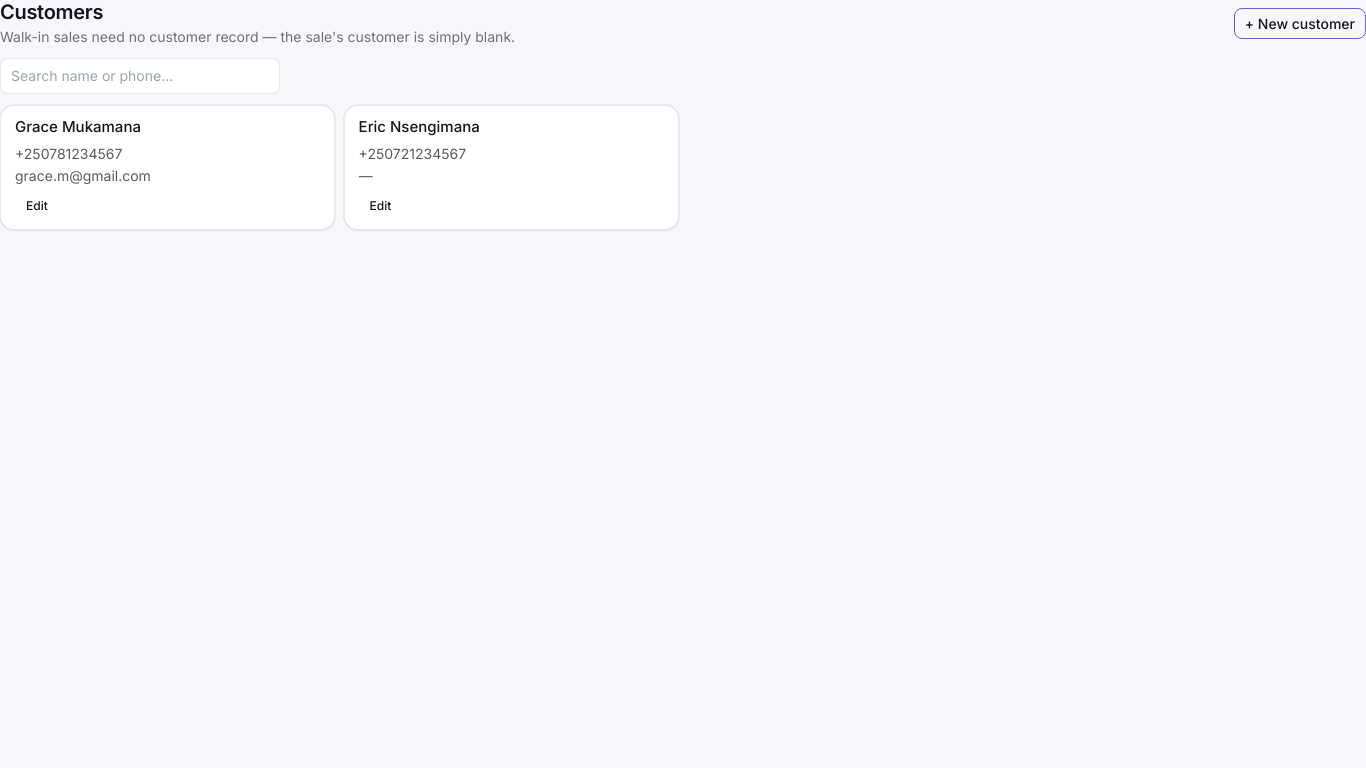
Test: CustomersPageClient › offers New customer as the page's main action
Check: the link "Grace Mukamana" is shown, box [15,117,141,136]
Check: the heading "Customers" is shown, box [0,0,103,24]
Step 1. Click the button "+ New customer" → point(1300, 24), box [1234,8,1365,39]
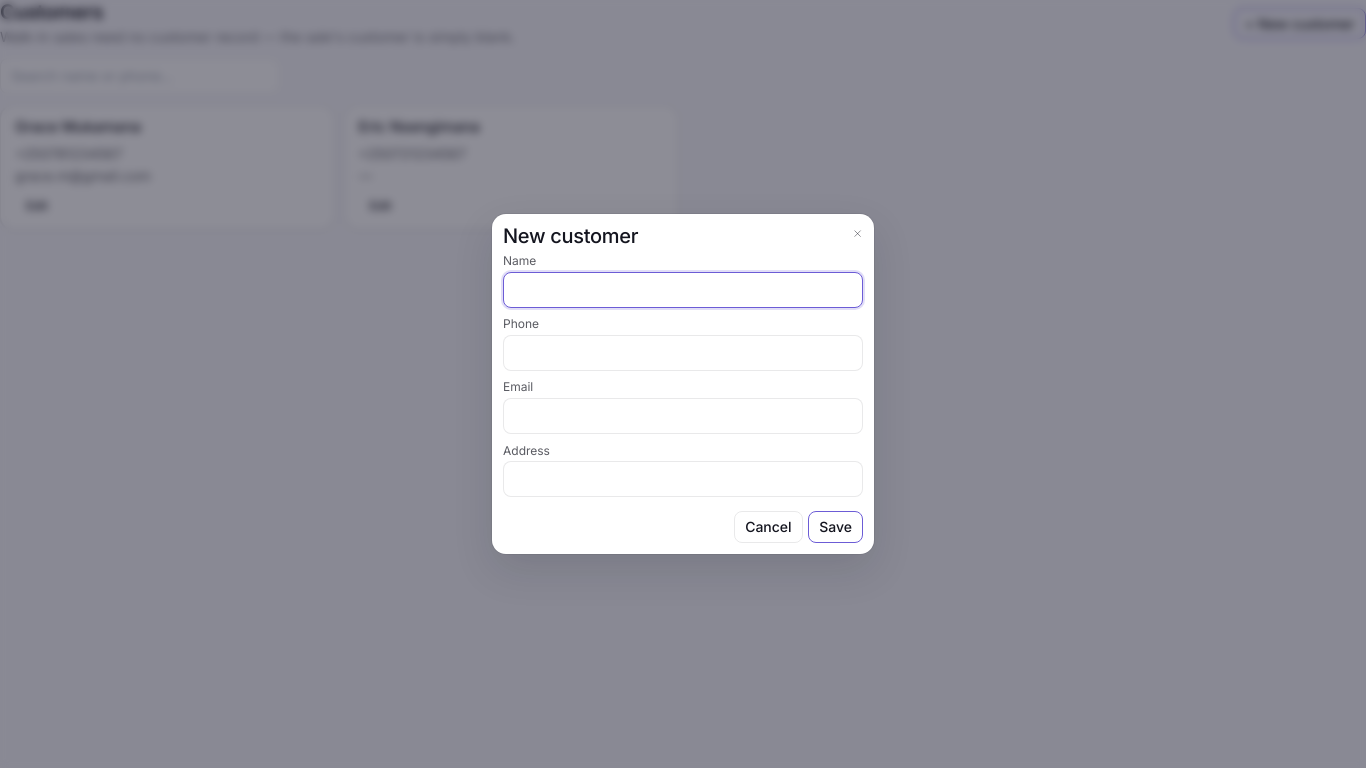
Check: the dialog is shown, box [492,214,874,554]
